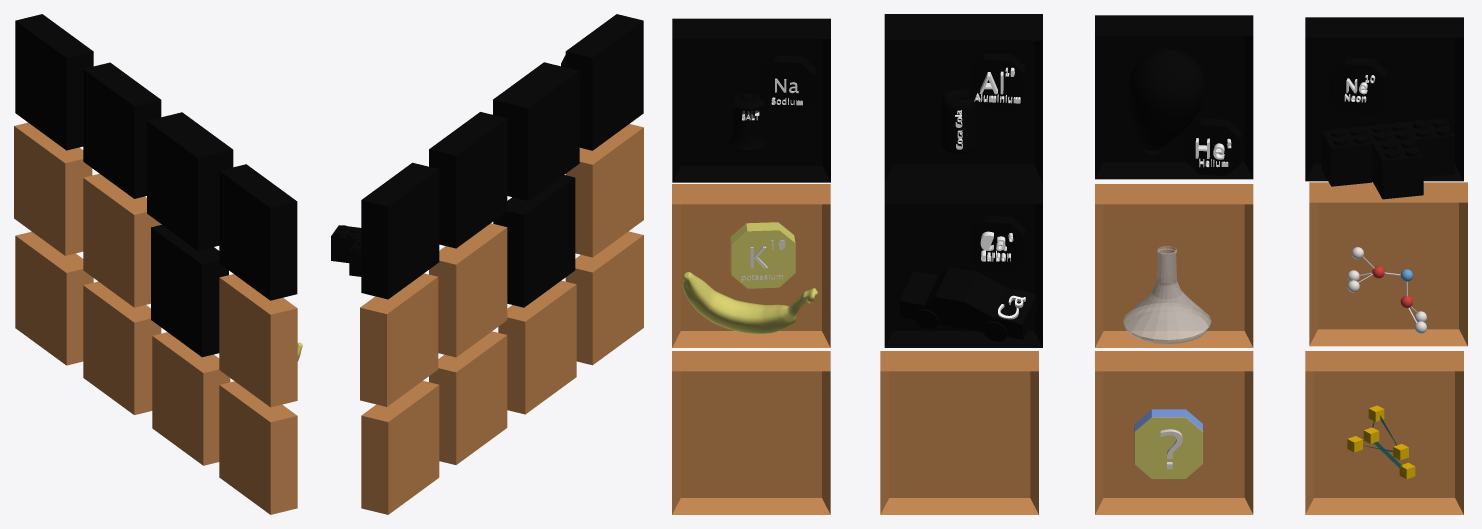
The model's file is Allassets400.fbx.
3 views of the same model, side by side, from view 1: azimuth 30°, elevation 25°; view 2: azimuth 150°, elevation 25°; view 3: azimuth 270°, elevation 25° (orthographic). The views are drawn at different scales.
Visible parts, largest first — view 1: aluminum2:pCylinder3, SodiumBicar:directionalLight2, Potassium_Object:Cube.001, pCube9, neQY:group2_neQY:pCylinder1, typeMesh13, pCube18, trails3:MASH1_ReproMesh1, pCube8, pCube10, test_beaker:Mesh, Ca_Car2:volumeLight1; view 2: neQY:group2_neQY:pCylinder1, aluminum2:pCylinder3, trails3:MASH1_ReproMesh1, pCube8, typeMesh13, SodiumBicar:directionalLight2, test_beaker:Mesh, pCube10, pCube18, pCube9, Ca_Car2:volumeLight1, Potassium_Object:Cube.001; view 3: aluminum2:pCylinder3, neQY:group2_neQY:pCylinder1, SodiumBicar:directionalLight2, typeMesh13, pCube9, pCube10, Potassium_Object:Cube.001, Ca_Car2:volumeLight1, test_beaker:Mesh, pCube18, trails3:MASH1_ReproMesh1, pCube8.
Boxes of the visible parts, x1,y1,x2,y2 form: aluminum2:pCylinder3: (147, 112, 233, 250); SodiumBicar:directionalLight2: (219, 164, 297, 300); Potassium_Object:Cube.001: (219, 274, 302, 407); pCube9: (219, 381, 297, 514); neQY:group2_neQY:pCylinder1: (15, 14, 93, 150); typeMesh13: (83, 62, 161, 198); pCube18: (83, 281, 161, 414); trails3:MASH1_ReproMesh1: (15, 231, 93, 365); pCube8: (14, 122, 92, 255); pCube10: (152, 332, 230, 465); test_beaker:Mesh: (83, 173, 161, 307); Ca_Car2:volumeLight1: (151, 224, 228, 357); neQY:group2_neQY:pCylinder1: (331, 162, 439, 299); aluminum2:pCylinder3: (493, 62, 579, 200); trails3:MASH1_ReproMesh1: (361, 381, 439, 514); pCube8: (360, 273, 438, 406); typeMesh13: (429, 112, 507, 248); SodiumBicar:directionalLight2: (561, 14, 643, 150); test_beaker:Mesh: (429, 223, 507, 357); pCube10: (498, 280, 576, 414); pCube18: (429, 331, 507, 464); pCube9: (565, 231, 643, 365); Ca_Car2:volumeLight1: (493, 175, 575, 307); Potassium_Object:Cube.001: (565, 124, 643, 257); aluminum2:pCylinder3: (884, 14, 1042, 184); neQY:group2_neQY:pCylinder1: (1305, 17, 1463, 199); SodiumBicar:directionalLight2: (672, 18, 830, 182); typeMesh13: (1095, 15, 1253, 179); pCube9: (672, 351, 830, 514); pCube10: (880, 351, 1038, 514); Potassium_Object:Cube.001: (672, 184, 830, 347); Ca_Car2:volumeLight1: (884, 184, 1042, 347); test_beaker:Mesh: (1095, 184, 1253, 347); pCube18: (1095, 351, 1253, 514); trails3:MASH1_ReproMesh1: (1305, 351, 1463, 514); pCube8: (1309, 182, 1467, 346).
Bounding box in the file's own units: 13.5 × 50.02 × 75.29.
